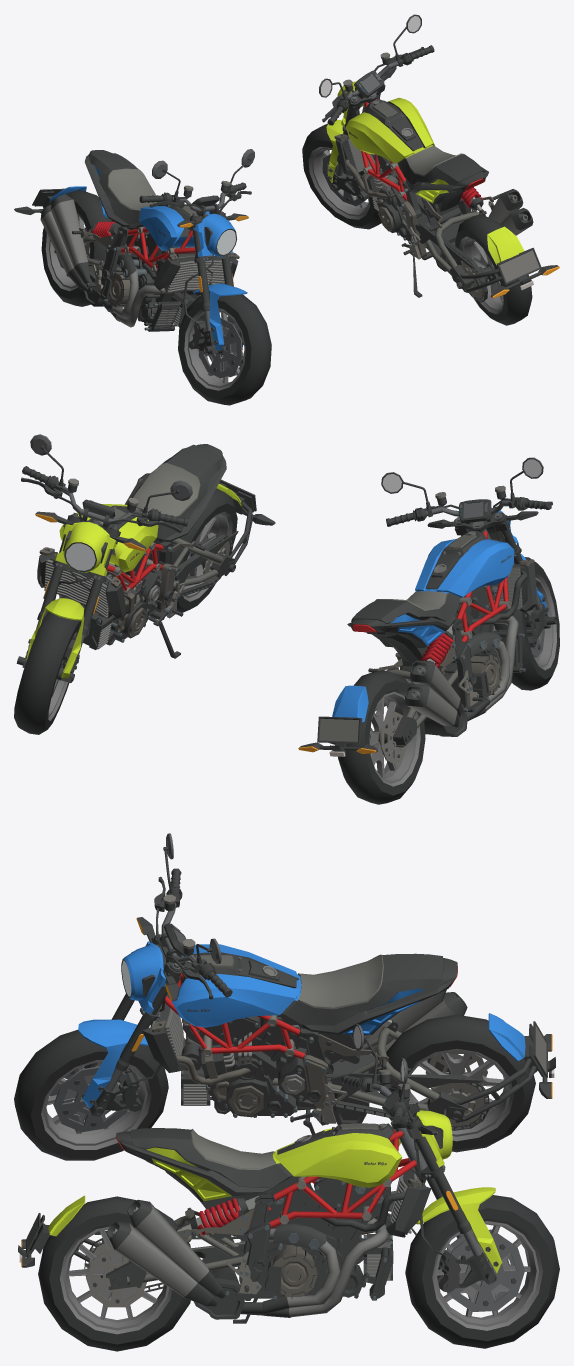
File: motorcycle.glb
3 renders of one model, top to bottom at view 1: azimuth 30°, elevation 25°; view 2: azimuth 150°, elevation 25°; view 3: azimuth 270°, elevation 25°, orthographic. The views are drawn at different scales.
Visible parts, largest first — view 1: Body 1_Textures_0, Body 003_Textures_0, Wheel_F_Textures_0, Steer_Textures_0, Body 004_Textures_0, Steer001_Textures_0, Body 003_black_m_0, Wheel_B001_Textures_0, Wheel_B_Textures_0, Wheel_F001_Textures_0, Steer_Mat Body_0, Wheel_F_Mat Wheel_0 (+7 smaller); view 2: Body 1_Textures_0, Body 003_Textures_0, Steer001_Textures_0, Steer_Textures_0, Wheel_B_Textures_0, Wheel_F001_Textures_0, Body 1_Mat Body_0, Body 2_Textures_0, Body 004_Textures_0, Steer001_black_m_0, Wheel_B_Mat Wheel_0, Wheel_F_Textures_0 (+5 smaller); view 3: Body 003_Textures_0, Body 1_Textures_0, Wheel_F001_Textures_0, Wheel_F_Textures_0, Wheel_B001_Textures_0, Steer_Textures_0, Body 2_Textures_0, Wheel_B_Textures_0, Steer001_Textures_0, Body 003_black_m_0, Body 1_Mat Body_0, Body 004_Textures_0 (+7 smaller).
Part boxes in pixels (x1,y1,x2,y2): Body 1_Textures_0: [40, 150, 239, 331]; Body 003_Textures_0: [334, 99, 533, 271]; Wheel_F_Textures_0: [178, 293, 271, 405]; Steer_Textures_0: [139, 149, 254, 354]; Body 004_Textures_0: [401, 187, 559, 302]; Steer001_Textures_0: [319, 14, 434, 200]; Body 003_black_m_0: [345, 98, 448, 203]; Wheel_B001_Textures_0: [455, 214, 532, 325]; Wheel_B_Textures_0: [41, 190, 111, 306]; Wheel_F001_Textures_0: [302, 123, 381, 229]; Steer_Mat Body_0: [193, 213, 247, 350]; Wheel_F_Mat Wheel_0: [184, 308, 245, 390]; Body 1_Textures_0: [347, 531, 536, 736]; Body 003_Textures_0: [37, 444, 226, 649]; Steer001_Textures_0: [21, 434, 192, 682]; Steer_Textures_0: [381, 457, 552, 647]; Wheel_B_Textures_0: [338, 670, 425, 804]; Wheel_F001_Textures_0: [14, 612, 80, 734]; Body 1_Mat Body_0: [390, 539, 514, 645]; Body 2_Textures_0: [298, 624, 457, 756]; Body 004_Textures_0: [142, 479, 275, 601]; Steer001_black_m_0: [26, 522, 116, 678]; Wheel_B_Mat Wheel_0: [369, 689, 420, 786]; Wheel_F_Textures_0: [494, 557, 559, 690]; Body 003_Textures_0: [106, 1123, 431, 1319]; Body 1_Textures_0: [142, 952, 467, 1125]; Wheel_F001_Textures_0: [405, 1195, 559, 1348]; Wheel_F_Textures_0: [14, 1029, 168, 1160]; Wheel_B001_Textures_0: [38, 1196, 190, 1351]; Steer_Textures_0: [84, 833, 232, 1117]; Body 2_Textures_0: [272, 1020, 555, 1130]; Wheel_B_Textures_0: [380, 1014, 535, 1152]; Steer001_Textures_0: [341, 1024, 498, 1292]; Body 003_black_m_0: [146, 1128, 402, 1201]; Body 1_Mat Body_0: [171, 944, 424, 1034]; Body 004_Textures_0: [18, 1195, 258, 1297].
Bounding box in the file's own units: 1.51 × 0.8692 × 1.41.
Materials: 4 (1 with a texture image).
